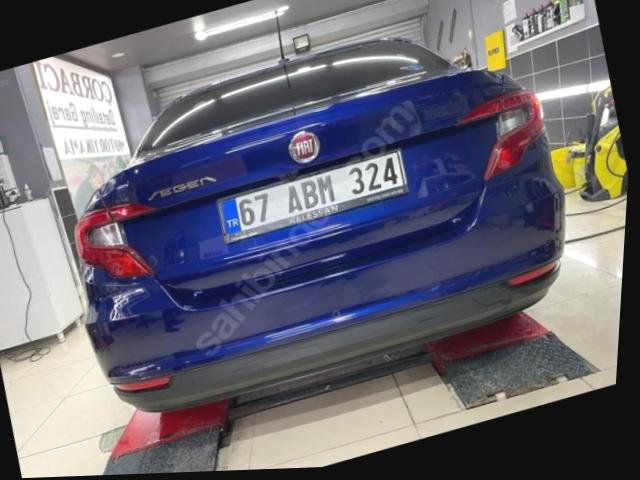plaka: (218, 150, 407, 243)
